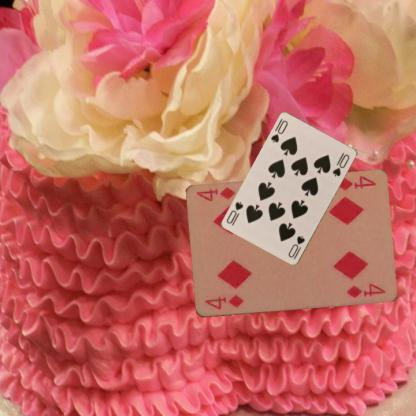10s: (268, 118, 289, 144), (286, 234, 306, 261)
4d: (202, 292, 246, 312), (334, 174, 377, 192)
